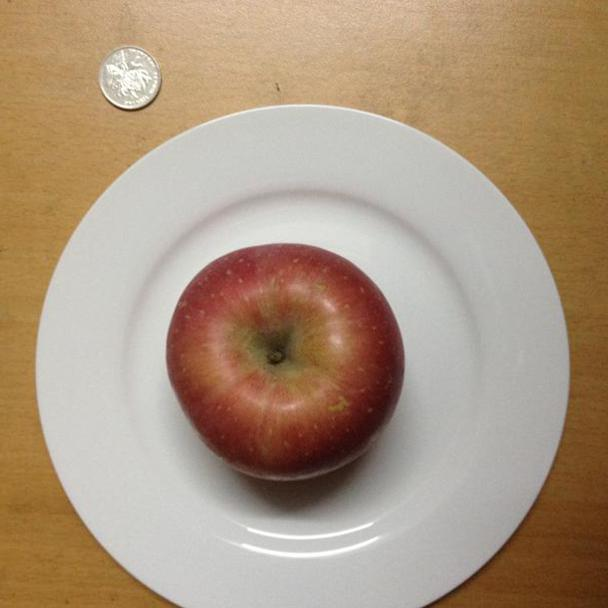apple: (167, 242, 406, 484)
